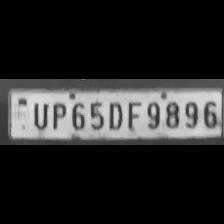5: (86, 99, 106, 131)
6: (66, 99, 86, 130), (199, 99, 219, 129)
8: (162, 100, 182, 130)
9: (180, 99, 200, 129), (143, 98, 161, 130)
D: (105, 99, 123, 131)
F: (124, 99, 142, 130)
P: (48, 100, 68, 130)
U: (30, 100, 50, 130)
